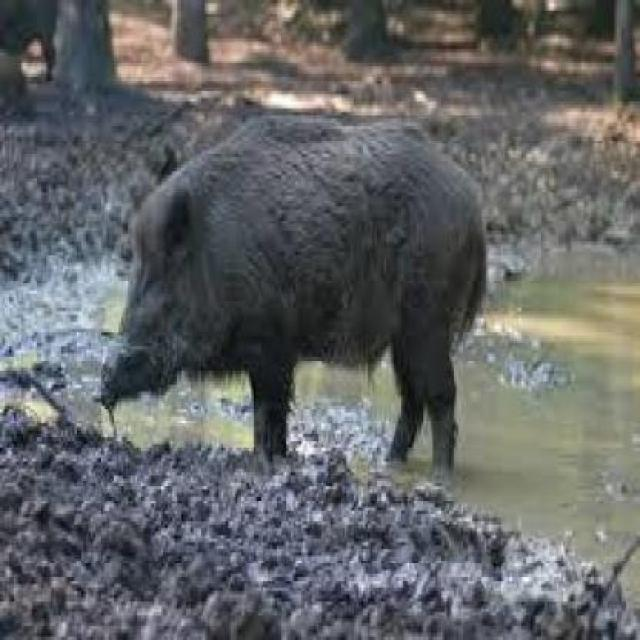wildboar: (92, 113, 494, 487)
